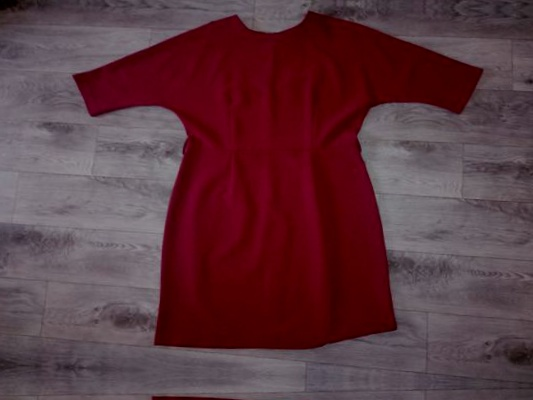Dress: (59, 0, 498, 366), (44, 386, 482, 400), (74, 0, 512, 1)
